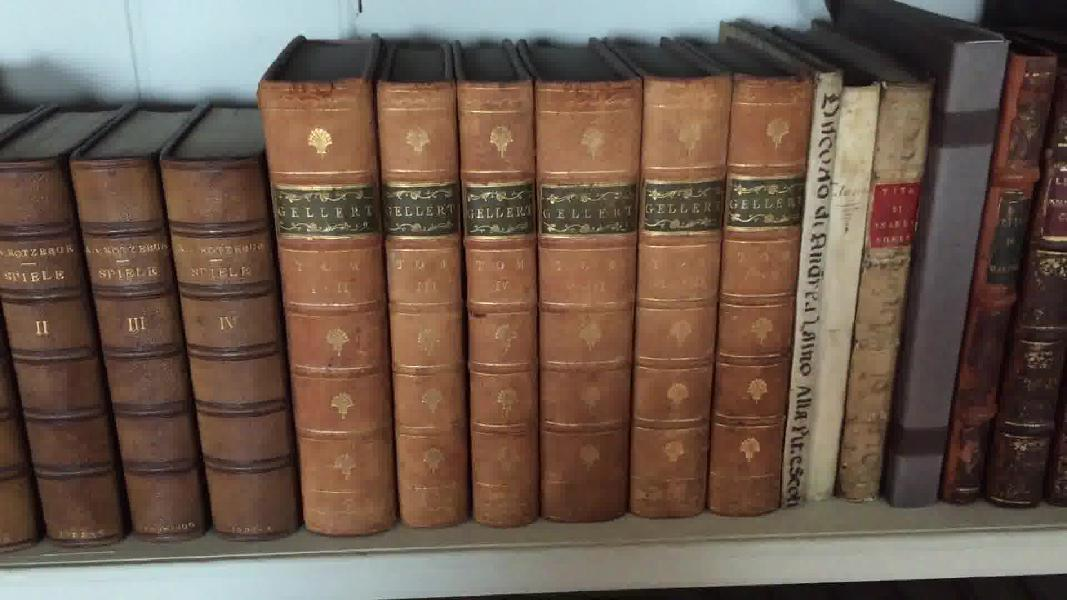Aa6-18_23: (252, 71, 804, 546)
Aa6-24: (779, 39, 839, 531)
Aa6-25: (798, 78, 879, 520)
Aa6-26: (833, 57, 950, 521)
Aa6-27: (894, 21, 997, 523)
Aa6-28: (943, 25, 1048, 507)
